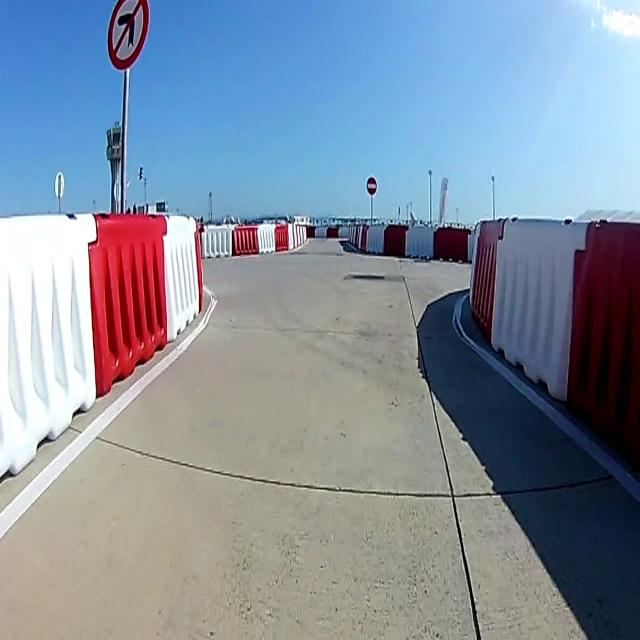girisyok: (367, 176, 377, 196)
soladonulmez: (107, 1, 151, 71)
